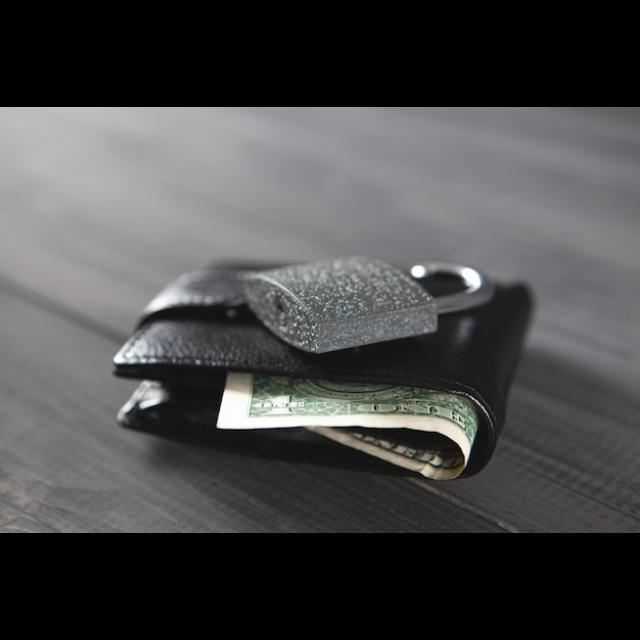wallet: (116, 320, 534, 514)
